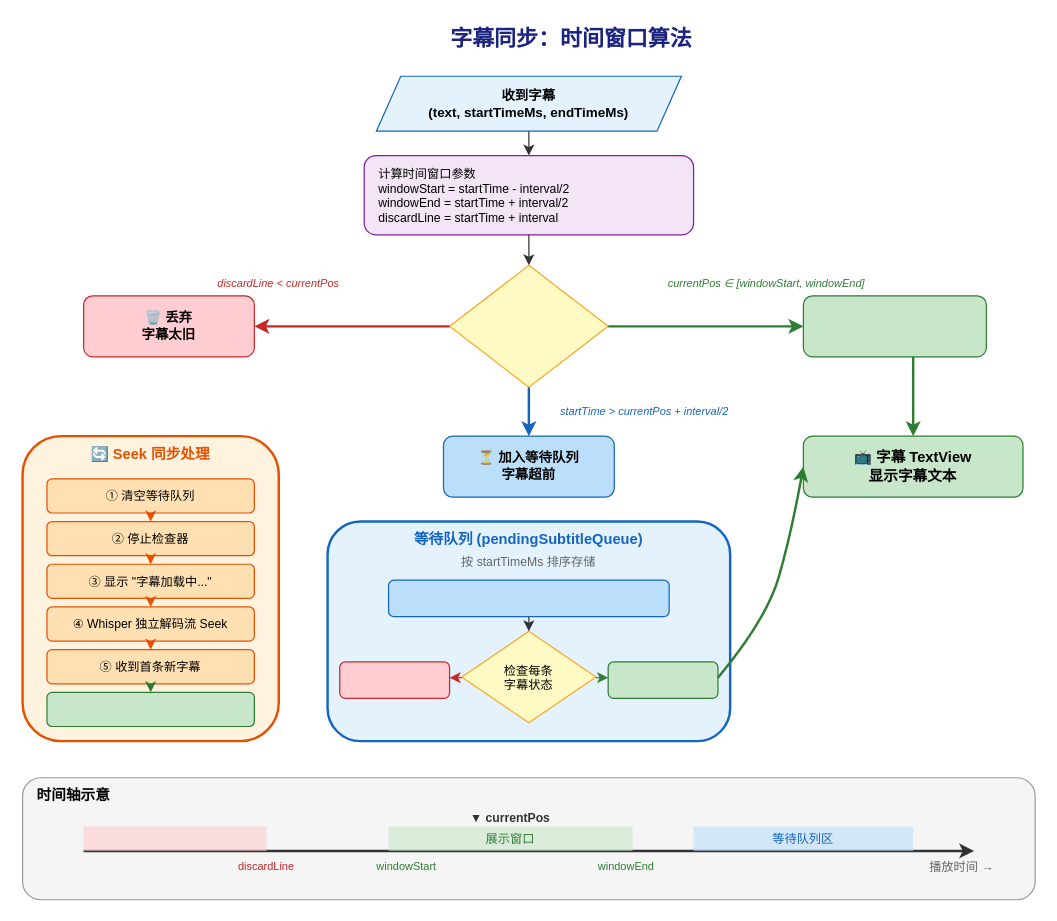
This 1057x921 diagram has some shape labels left out. Here are the shapes that lost their labels. From the top down, the centre of each, then its label:
At (x=528, y=325): "判断字幕 展示时机".
At (x=894, y=326): "✅ 立即展示 正好在窗口内".
At (x=528, y=598): "⏱️ 100ms 定时检查器".
At (x=394, y=679): "过期 → 移除".
At (x=662, y=679): "到期 → 展示".
At (x=150, y=709): "⑥ 恢复正常展示".
At (x=174, y=838): "丢弃区".
